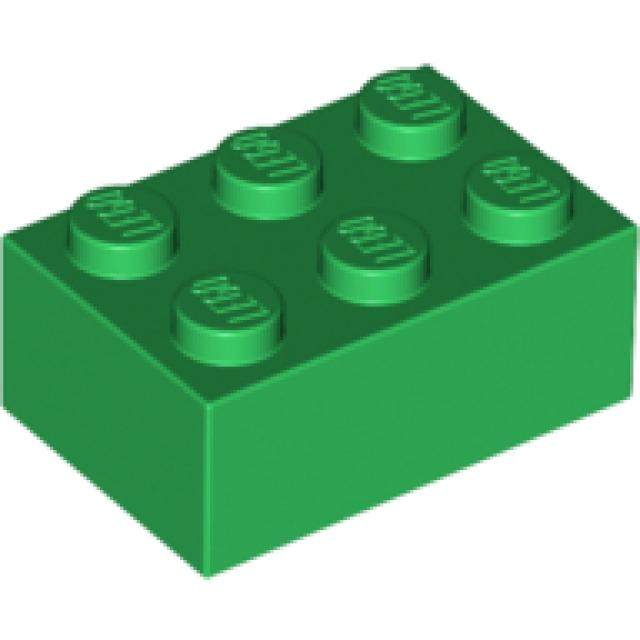Green_Medium: (0, 67, 640, 580)
